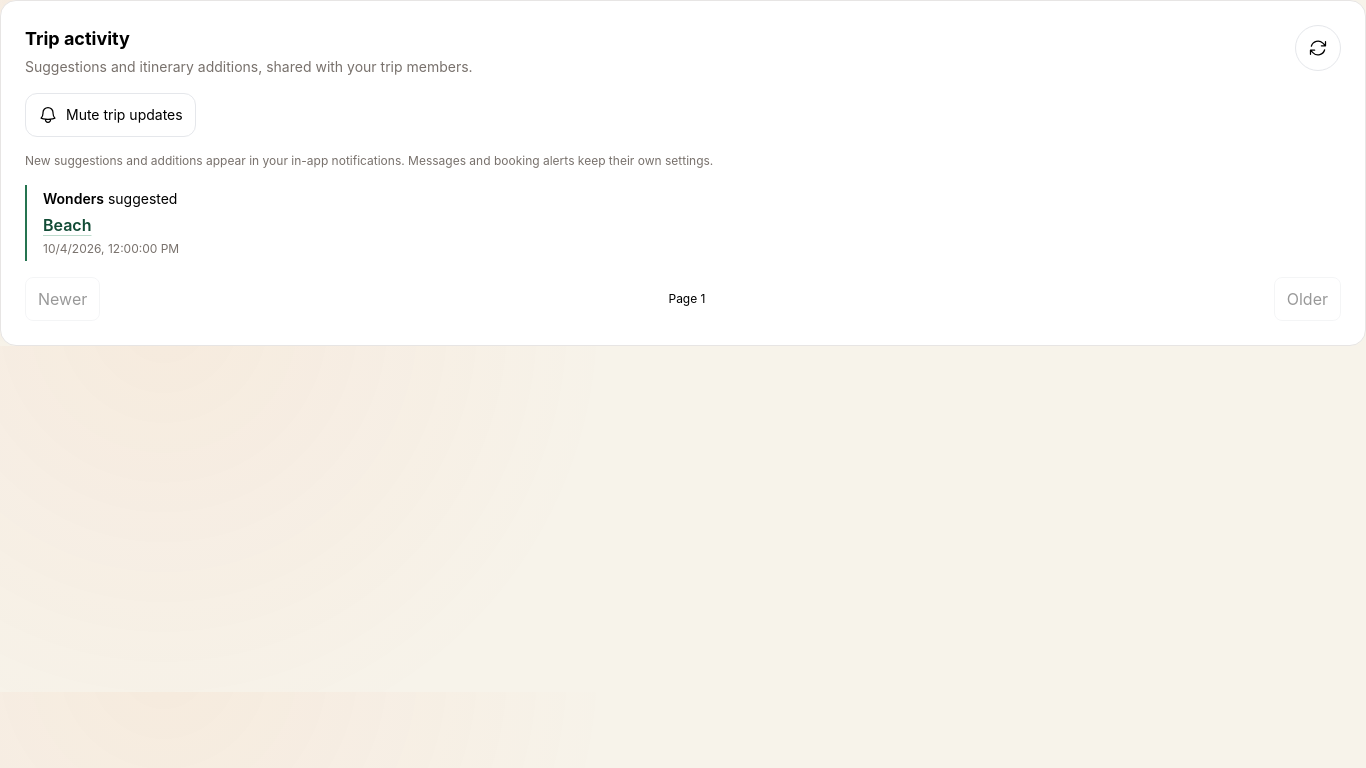
Test: keeps the previous preference when saving fails
Step 1. Click the button "Mute trip updates" → {"x": 110, "y": 115}, box [25,93,196,137]
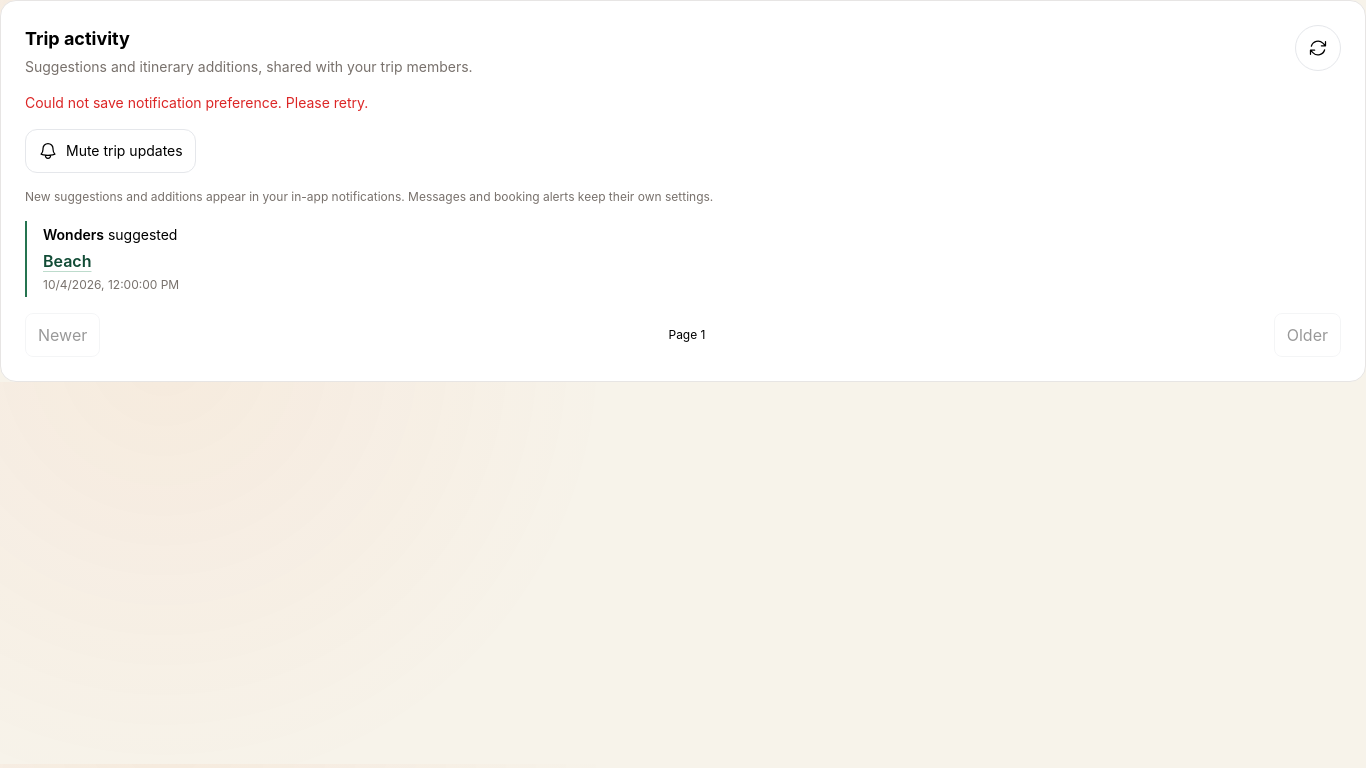
Expected: the message shows "Could not save", [25,94,368,111]
